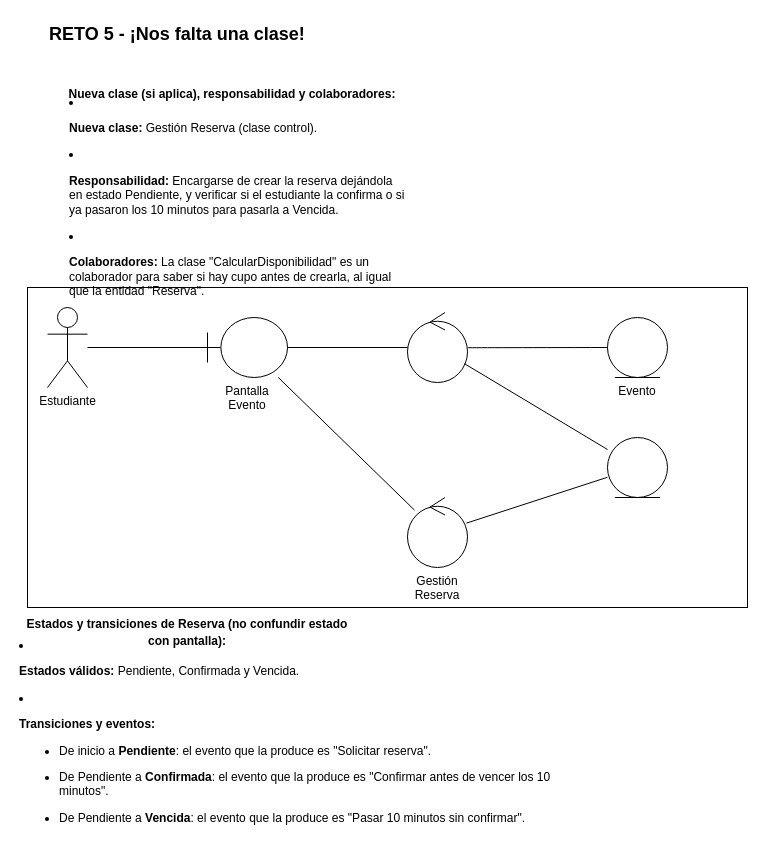
This 765x854 diagram has some shape labels left out. Here are the shapes that lost their labels. From the top down, the box of each, then its label:
(406, 312, 468, 382): CalcularDisponibilidad
(606, 436, 668, 498): Reserva
